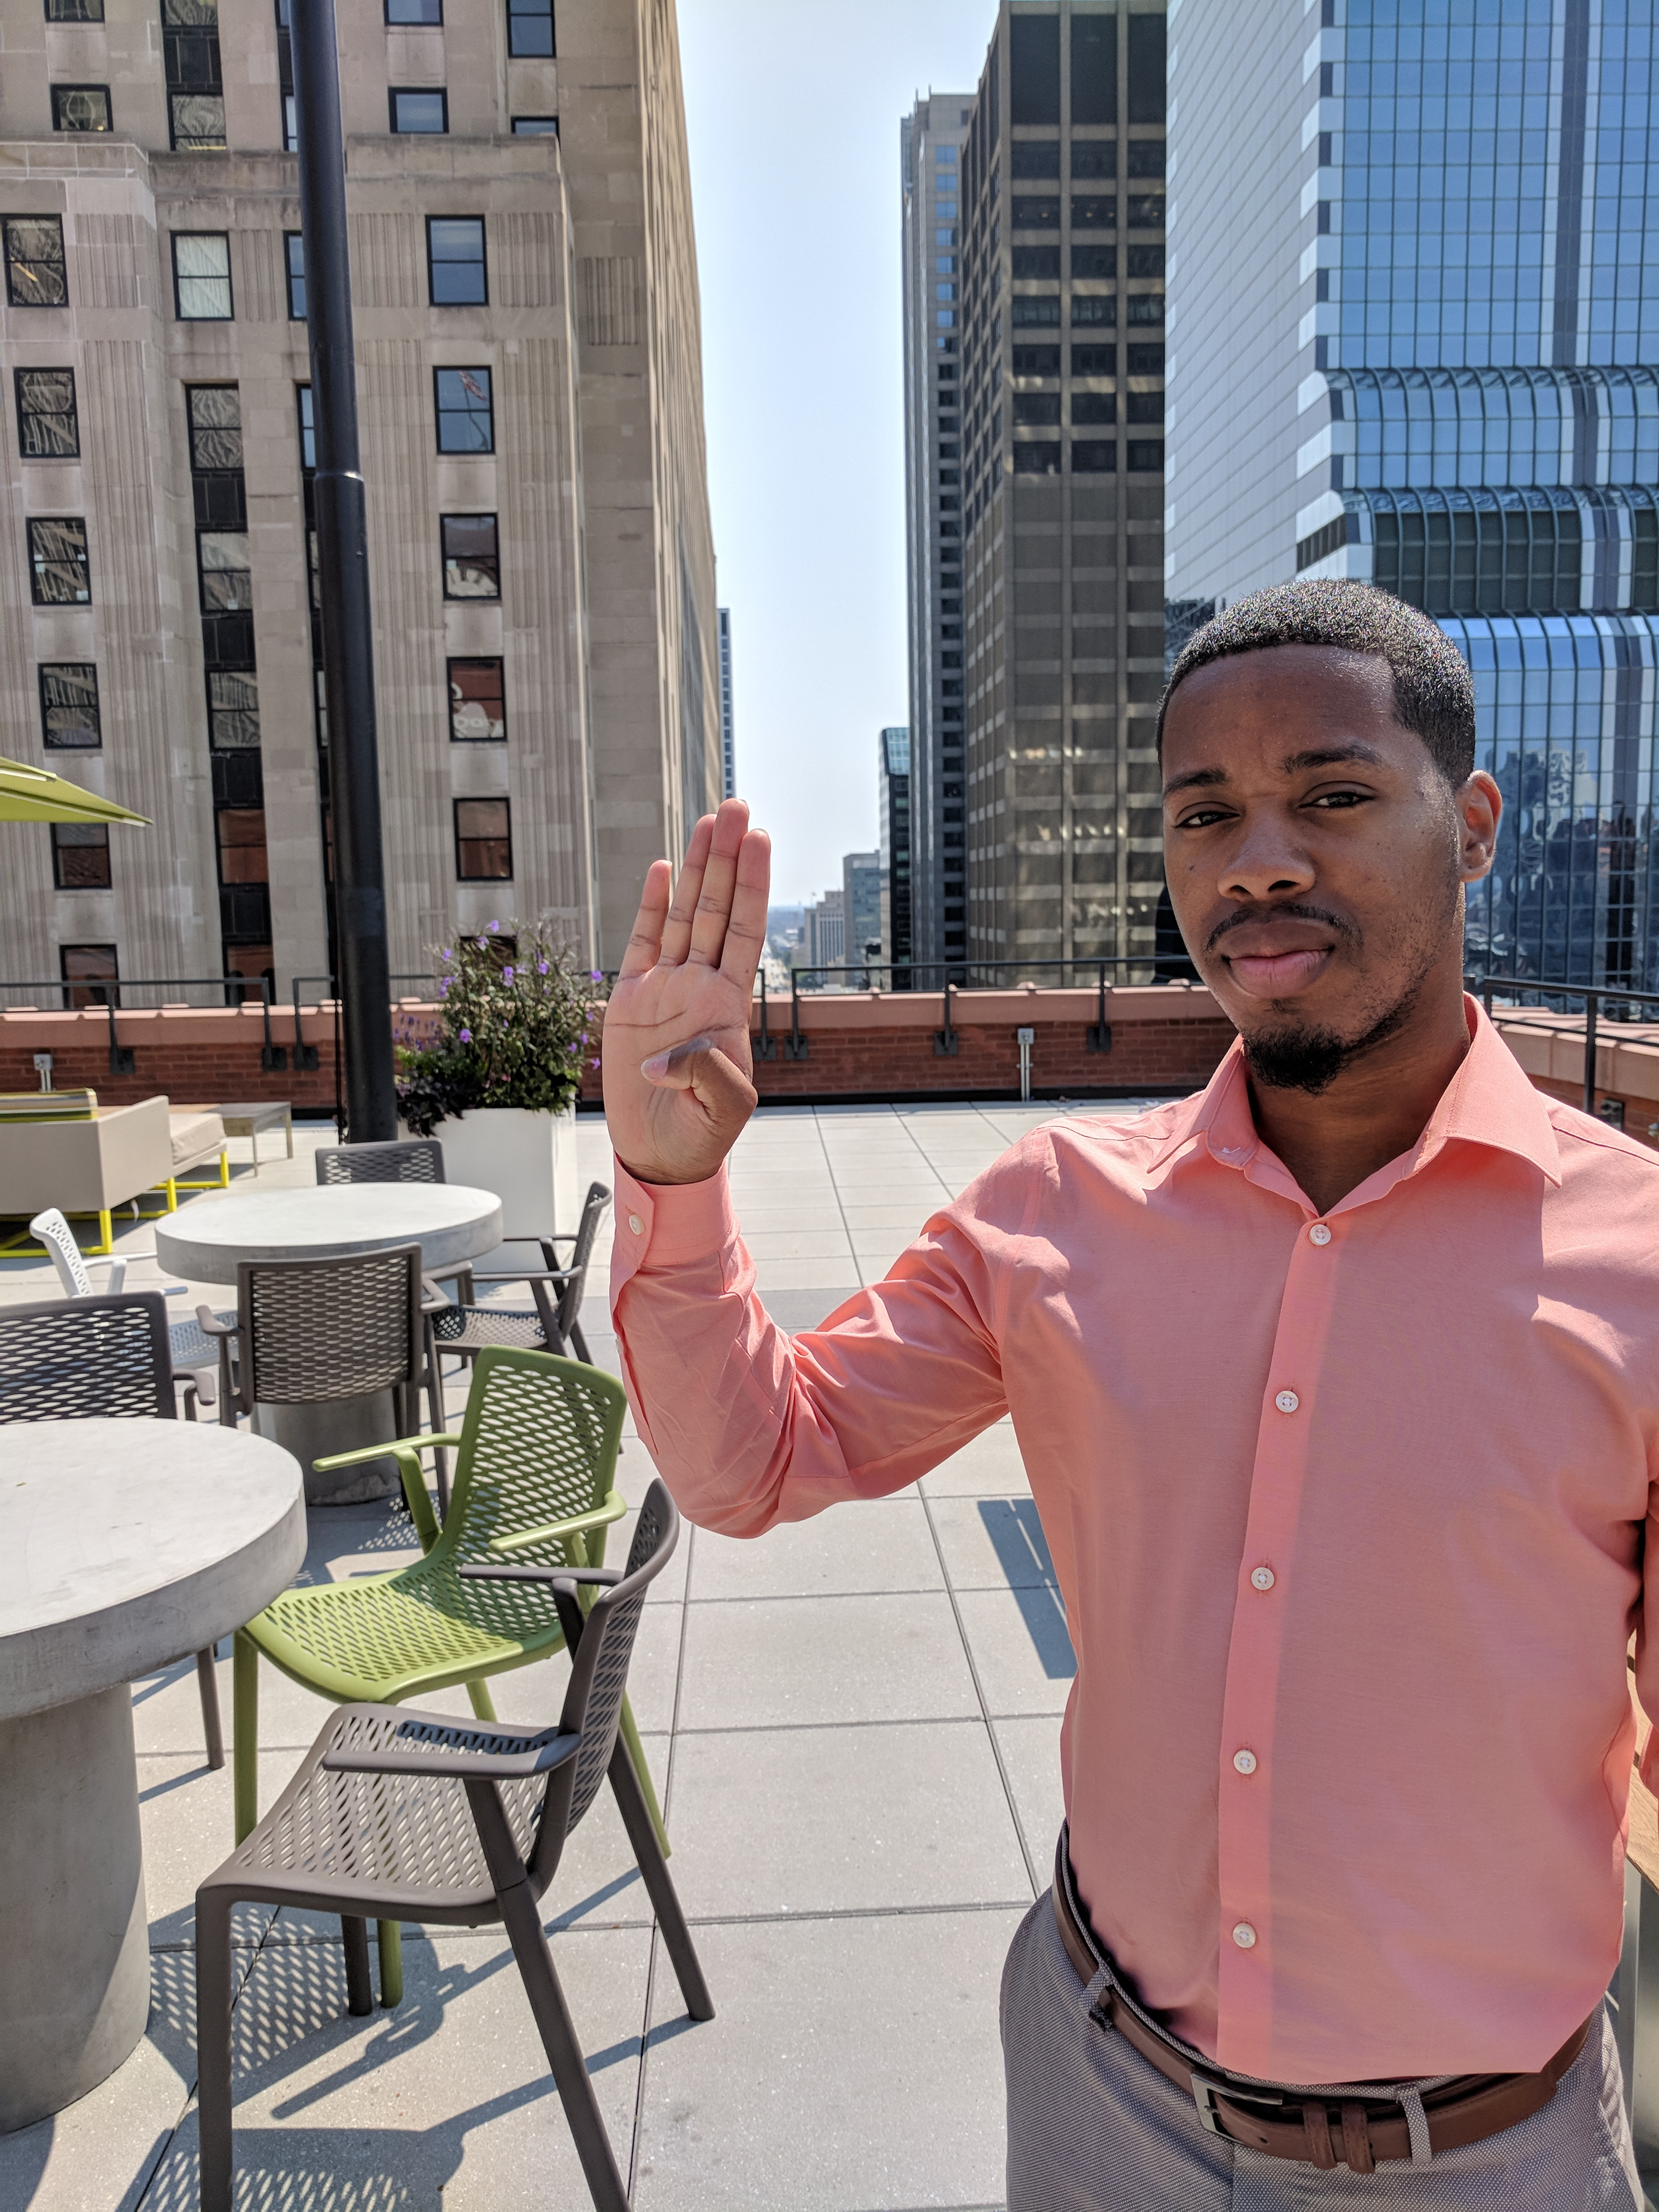b: (599, 799, 788, 1193)
